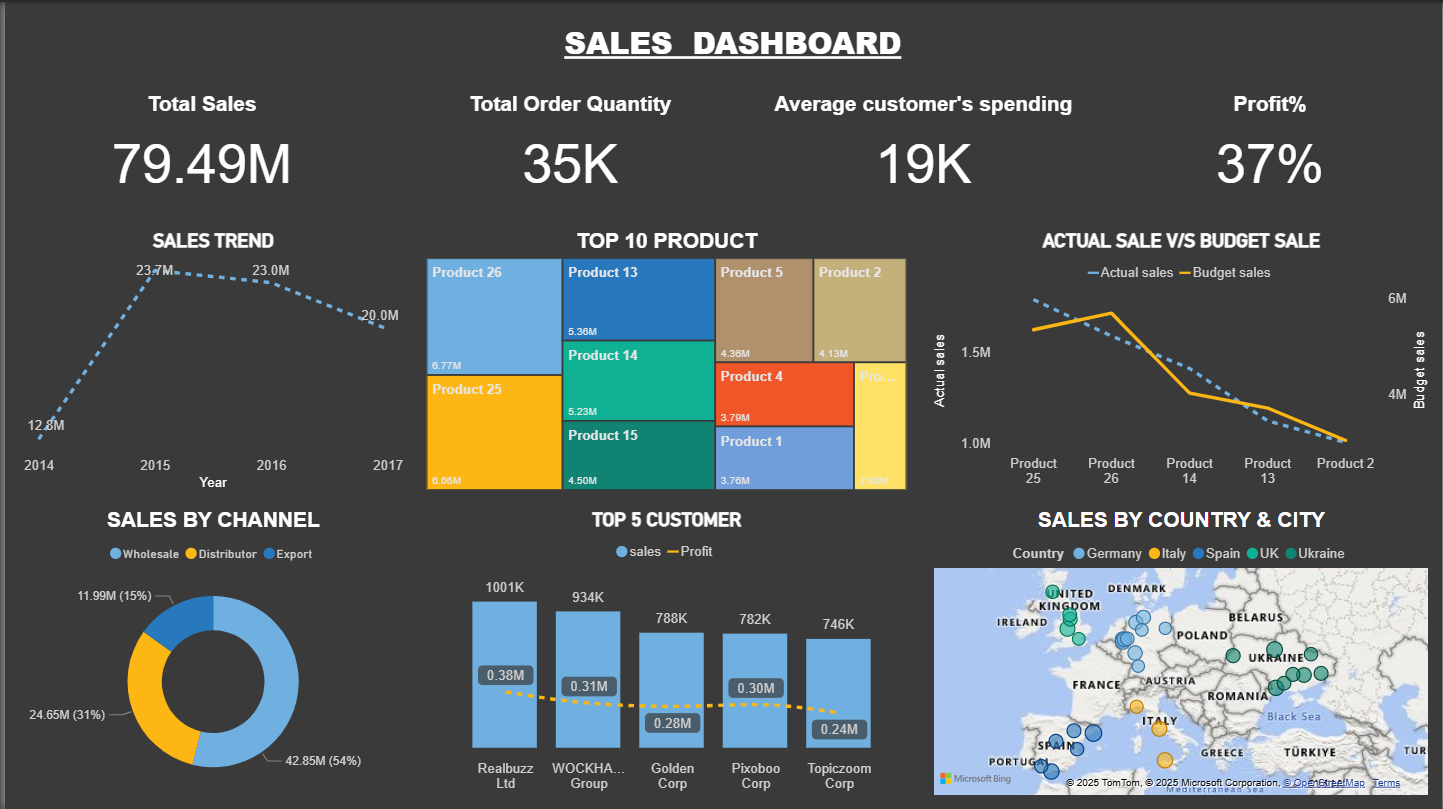

This screenshot's page, from the dashboard's own definition file:
{"tool":"powerbi","page":{"name":"Dashboard","canvas":[1280,720],"ordinal":0},"visuals":[{"type":"lineChart","title":"SALES  TREND","fields":{"Category":["sales_orders.OrderDate.Variation.Date Hierarchy.Year","sales_orders.OrderDate.Variation.Date Hierarchy.Quarter","sales_orders.OrderDate.Variation.Date Hierarchy.Month","sales_orders.OrderDate.Variation.Date Hierarchy.Day"],"Y":["Sum(sales_orders.Line Total)"]},"box":[11.6,202.3,348.8,237.2],"z":0},{"type":"map","title":"SALES BY COUNTRY & CITY","fields":{"Size":["Sum(sales_orders.Line Total)"],"Series":["regions.Country"],"Category":["regions.City"]},"box":[822.1,451.2,450,260.5],"z":1},{"type":"lineClusteredColumnComboChart","title":"TOP 5 CUSTOMER","fields":{"Category":["customers.Customer Names"],"Y":["Sum(sales_orders.Line Total)"],"Y2":["Sum(sales_orders.Profit)"]},"box":[370.9,451.2,437.2,260.5],"z":2},{"type":"donutChart","title":"SALES  BY  CHANNEL","fields":{"Category":["sales_orders.Channel"],"Y":["Sum(sales_orders.Line Total)"]},"box":[11.6,451.2,348.8,260.5],"z":3},{"type":"treemap","title":"TOP 10 PRODUCT","fields":{"Group":["products.Product Name"],"Values":["Sum(sales_orders.Line Total)"]},"box":[370.9,202.3,437.2,237.2],"z":4},{"type":"lineChart","title":"ACTUAL SALE V/S BUDGET SALE","fields":{"Y":["Sum(sales_orders.Line Total)"],"Y2":["Sum(products.2017 Budgets)"],"Category":["products.Product Name"]},"box":[822.1,202.3,450,237.2],"z":5},{"type":"card","title":"Total Sales","fields":{"Values":["Sum(sales_orders.Line Total)"]},"box":[11,79.8,328.8,101.8],"z":6},{"type":"card","title":"Total Order Quantity","fields":{"Values":["Sum(sales_orders.Order Quantity)"]},"box":[350.9,79.8,305.5,101.8],"z":7},{"type":"card","title":"Average customer''s  spending","fields":{"Values":["Avg(sales_orders.Line Total)"]},"box":[665,79.8,306.8,101.8],"z":8},{"type":"card","title":"Profit%","fields":{"Values":["sales_orders.Profit%"]},"box":[980.4,79.8,292,101.8],"z":9},{"type":"textbox","box":[452.8,12.3,390.2,51.5],"z":10}]}

Visuals, with their boxes in screenshot pixels (x1, y1, x2, y2), scaled from the page's 1280x720 canvas onto the 1443x809 screenshot:
"SALES  TREND" lineChart: (13,227,406,494)
"SALES BY COUNTRY & CITY" map: (927,507,1434,800)
"TOP 5 CUSTOMER" lineClusteredColumnComboChart: (418,507,911,800)
"SALES  BY  CHANNEL" donutChart: (13,507,406,800)
"TOP 10 PRODUCT" treemap: (418,227,911,494)
"ACTUAL SALE V/S BUDGET SALE" lineChart: (927,227,1434,494)
"Total Sales" card: (12,90,383,204)
"Total Order Quantity" card: (396,90,740,204)
"Average customer''s  spending" card: (750,90,1096,204)
"Profit%" card: (1105,90,1434,204)
textbox: (510,14,950,72)
